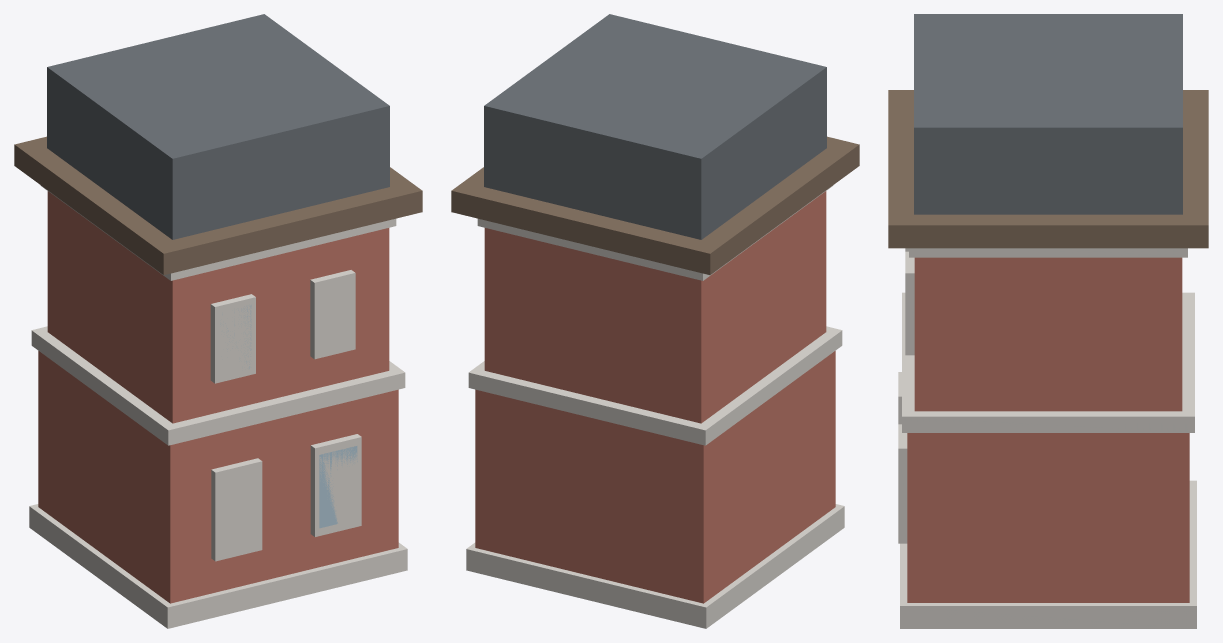
File: commercial_tier3_brick.glb
3 views of the same model, side by side, from view 1: azimuth 30°, elevation 25°; view 2: azimuth 150°, elevation 25°; view 3: azimuth 270°, elevation 25° (orthographic). The views are drawn at different scales.
Visible parts, largest first — view 1: Roof_Main, GroundFloor, SecondFloor, Roof_Eaves, Plinth, Cornice, GF_Arch_-0.34, GF_Arch_0.34, SF_Arch_0.34, SF_Arch_-0.34, Parapet, GF_Glass_0.34; view 2: GroundFloor, Roof_Main, SecondFloor, Roof_Eaves, Plinth, Cornice, Parapet; view 3: Roof_Main, GroundFloor, SecondFloor, Roof_Eaves, Plinth, Cornice, Parapet, GF_Arch_0.34, SF_Arch_0.34.
Boxes of the visible parts, x1=… form: Roof_Main: x1=47, y1=14, x2=389, y2=239; GroundFloor: x1=38, y1=351, x2=398, y2=603; SecondFloor: x1=47, y1=191, x2=389, y2=423; Roof_Eaves: x1=14, y1=136, x2=422, y2=274; Plinth: x1=29, y1=504, x2=407, y2=628; Cornice: x1=31, y1=326, x2=405, y2=445; GF_Arch_-0.34: x1=211, y1=458, x2=262, y2=561; GF_Arch_0.34: x1=310, y1=434, x2=361, y2=536; SF_Arch_0.34: x1=310, y1=270, x2=355, y2=359; SF_Arch_-0.34: x1=210, y1=294, x2=255, y2=383; Parapet: x1=40, y1=185, x2=396, y2=280; GF_Glass_0.34: x1=319, y1=446, x2=357, y2=528; GroundFloor: x1=475, y1=351, x2=835, y2=603; Roof_Main: x1=484, y1=14, x2=826, y2=239; SecondFloor: x1=484, y1=191, x2=826, y2=423; Roof_Eaves: x1=451, y1=136, x2=859, y2=274; Plinth: x1=466, y1=504, x2=844, y2=628; Cornice: x1=468, y1=326, x2=842, y2=445; Parapet: x1=477, y1=185, x2=833, y2=280; Roof_Main: x1=914, y1=14, x2=1182, y2=214; GroundFloor: x1=907, y1=433, x2=1189, y2=602; SecondFloor: x1=914, y1=257, x2=1182, y2=411; Roof_Eaves: x1=888, y1=90, x2=1208, y2=248; Plinth: x1=900, y1=480, x2=1196, y2=628; Cornice: x1=902, y1=292, x2=1194, y2=432; Parapet: x1=909, y1=248, x2=1187, y2=257; GF_Arch_0.34: x1=898, y1=424, x2=907, y2=543; SF_Arch_0.34: x1=905, y1=251, x2=914, y2=355.
Bounding box in the file's own units: 1.77 × 3.02 × 1.77.
